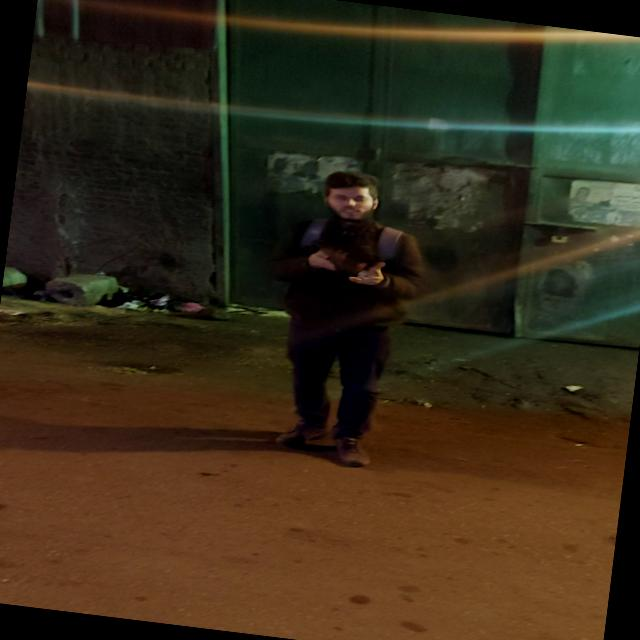long weapon: (288, 225, 428, 303)
